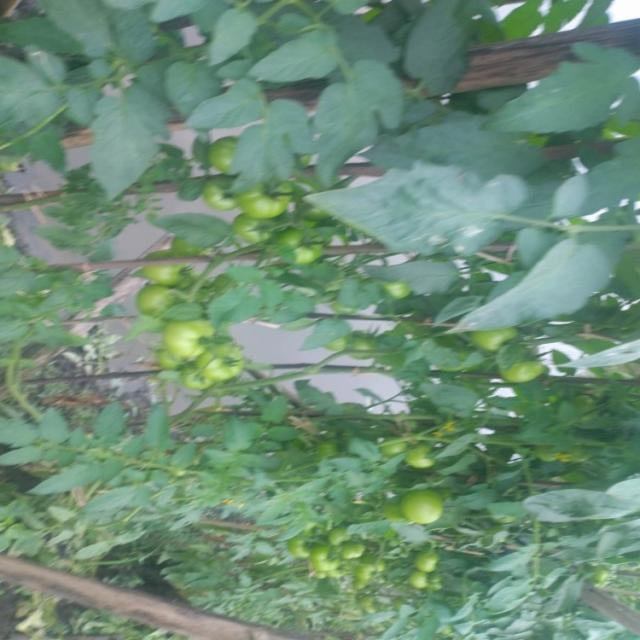tomato: (397, 485, 459, 537), (501, 347, 558, 392), (233, 181, 298, 220), (199, 340, 252, 384), (228, 212, 280, 250), (165, 322, 214, 362), (284, 228, 329, 267), (148, 256, 195, 292), (404, 437, 447, 474), (211, 136, 242, 185), (141, 283, 185, 316), (314, 544, 345, 590), (359, 553, 394, 586), (414, 550, 443, 589), (348, 334, 381, 362), (206, 183, 238, 210), (329, 526, 359, 553), (297, 536, 321, 564), (479, 329, 510, 350), (342, 543, 374, 561)
